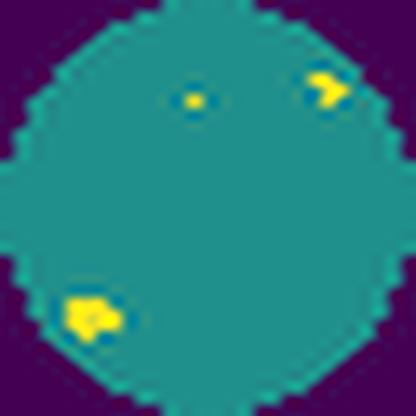Loc: (67, 290, 120, 343), (311, 68, 350, 109)
